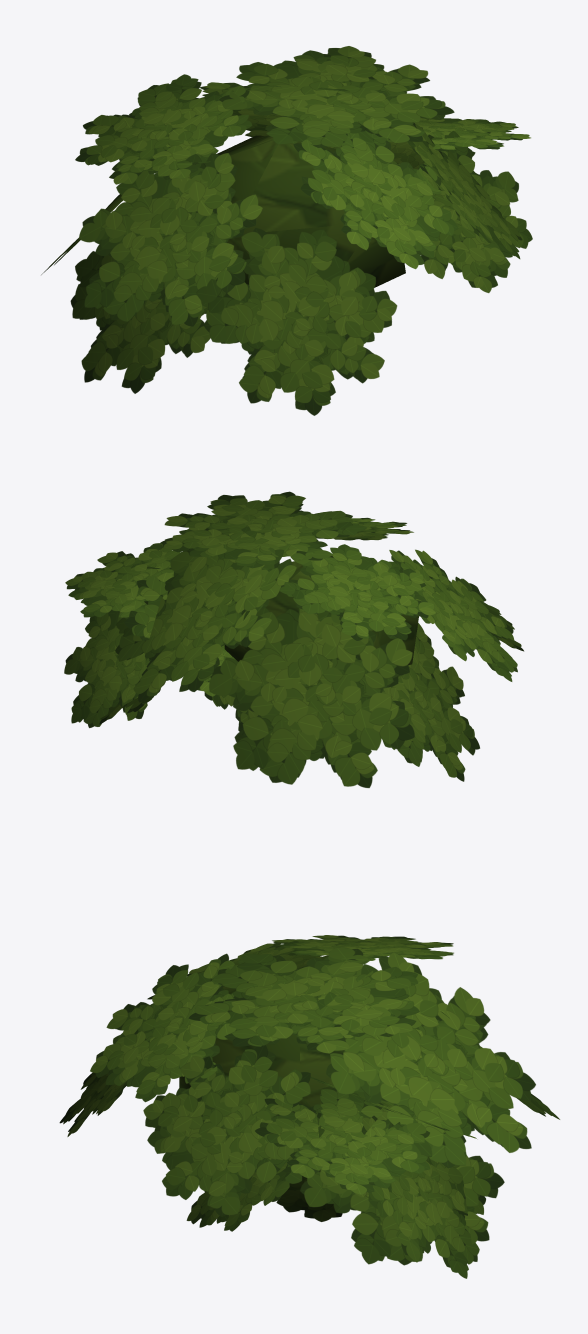
The model's file is bush1.glb.
The picture shows the model from 3 angles, top to bottom: view 1: azimuth 30°, elevation 25°; view 2: azimuth 150°, elevation 25°; view 3: azimuth 270°, elevation 25°; orthographic projection. The views are drawn at different scales.
Parts seen in each view (by area): view 1: Bush; view 2: Bush; view 3: Bush.
Part boxes in pixels (bbox=[...]): Bush: bbox=[41, 46, 532, 415]; Bush: bbox=[64, 491, 524, 787]; Bush: bbox=[59, 935, 559, 1278].
Bounding box in the file's own units: 3.3 × 2.08 × 3.07.
1 material, 1 textured.
